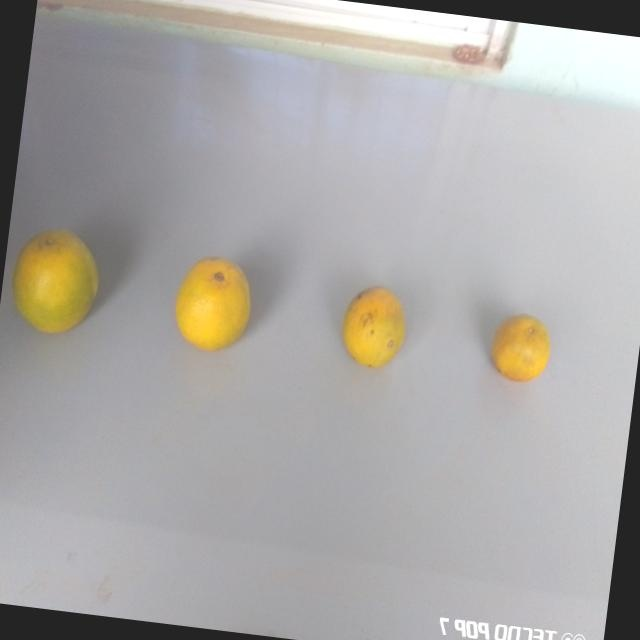agrume: (3, 215, 105, 349), (159, 244, 264, 368), (332, 274, 418, 382), (481, 301, 556, 389)
